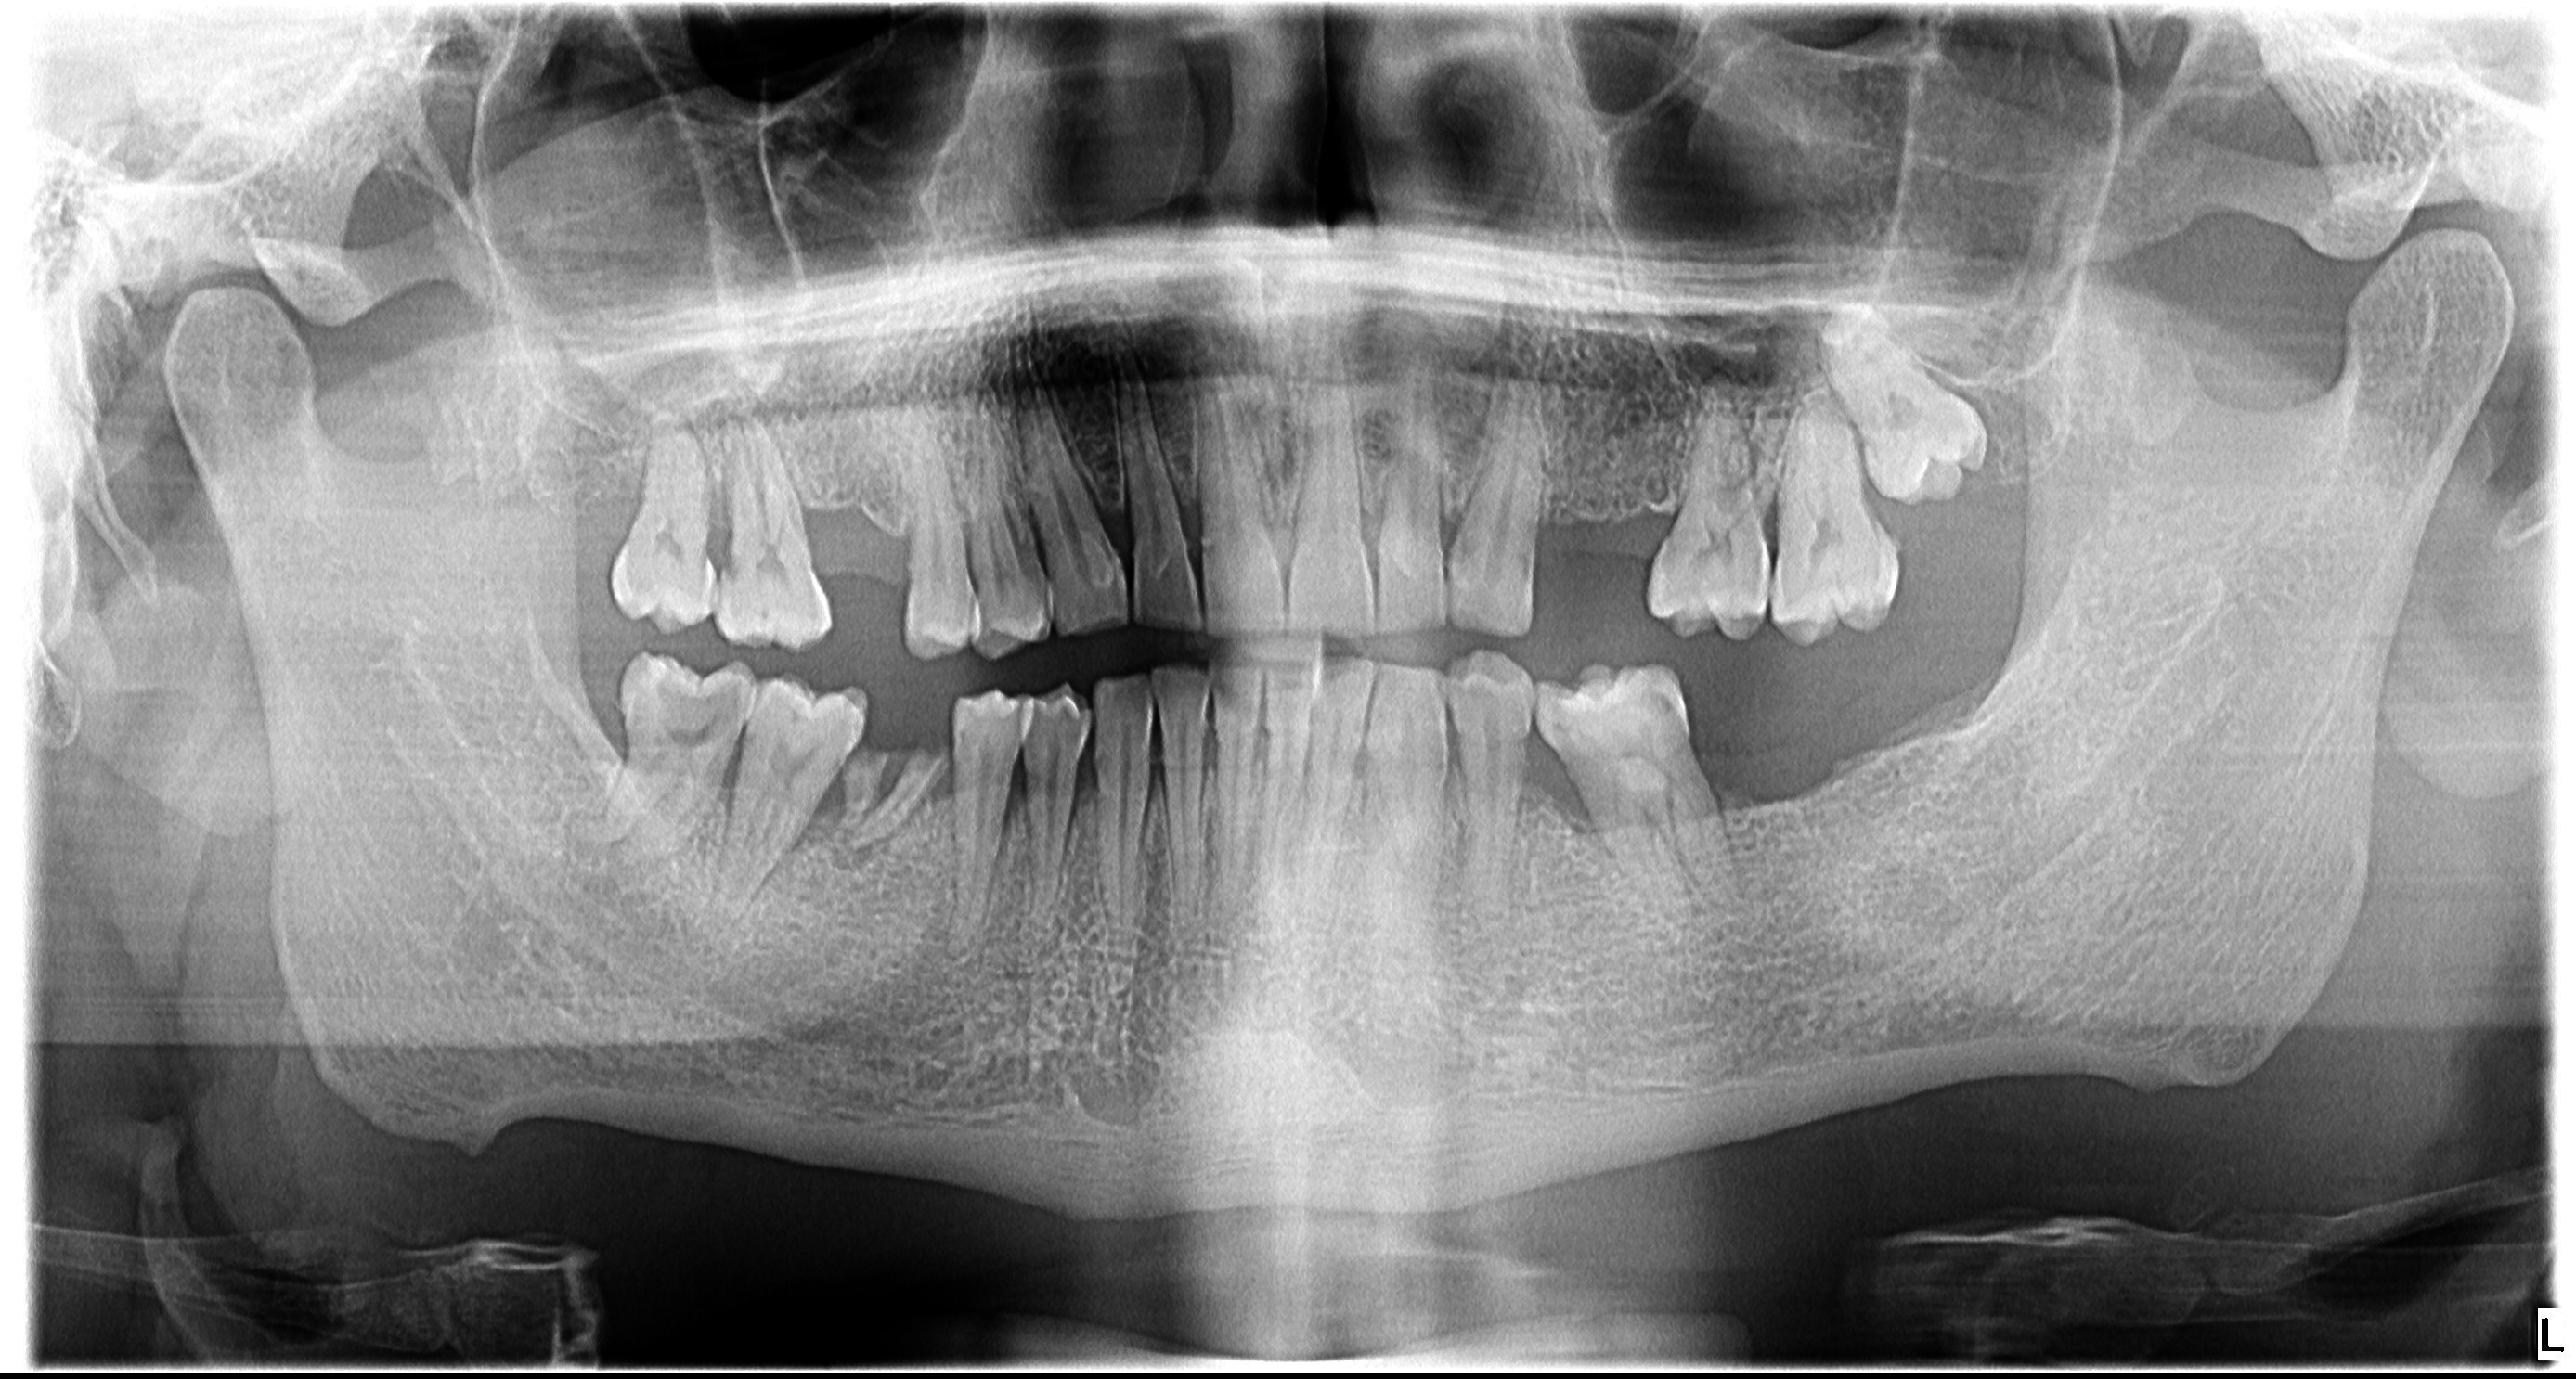API: (831, 834, 876, 878)
BON: (1797, 276, 2017, 514)
CAR: (1632, 666, 1683, 729), (707, 550, 760, 589)
IMT: (1521, 771, 1613, 856)
ROT: (852, 741, 951, 850), (825, 746, 872, 839)
